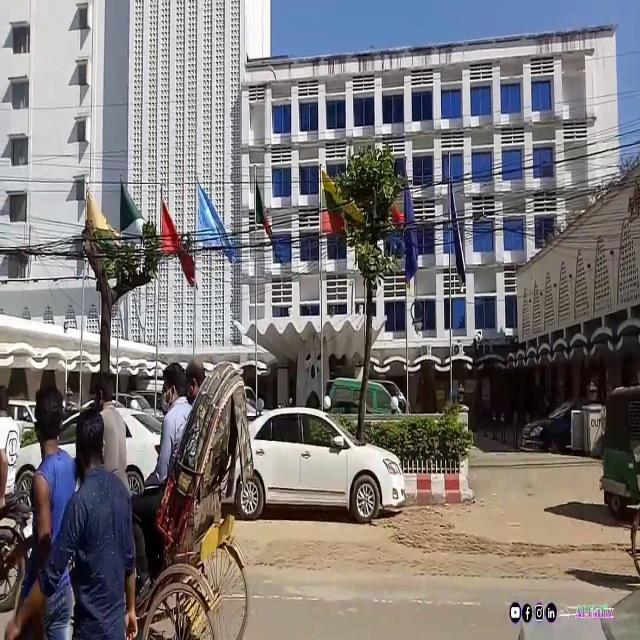white: (225, 404, 412, 524)
